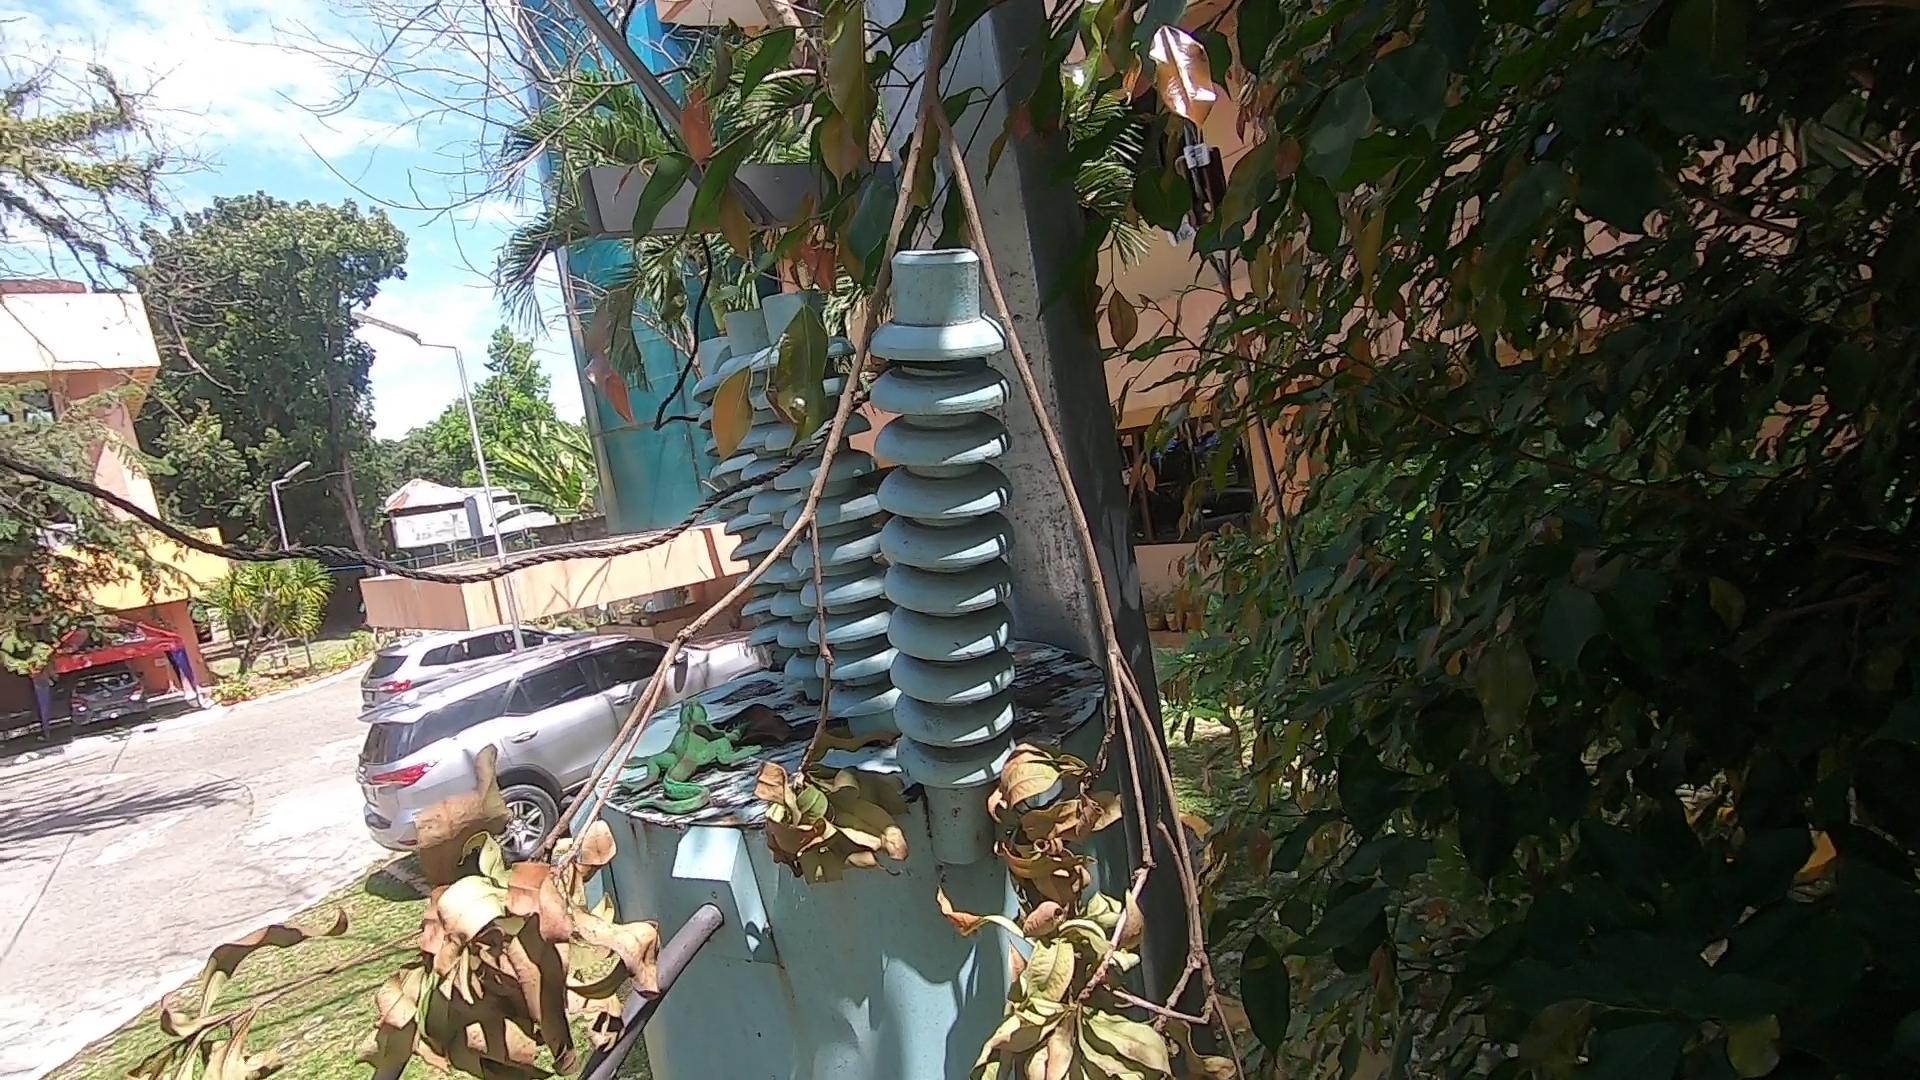branch with leaves: (98, 1, 1267, 1077)
leaf: (720, 696, 796, 746)
